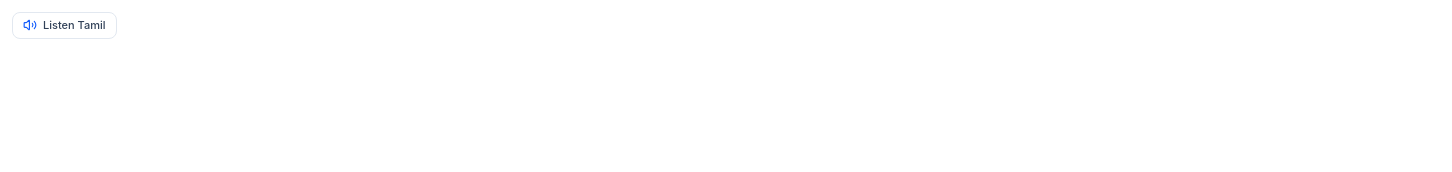
VoiceOutput (Text-to-Speech) workflows › uses matching browser speechSynthesis voice cleanly when server voice is unavailable and supports RTL transcripts
Later steps or results of the test are not shown.
Click the button "Listen Tamil". click: (64, 25)
box: [12,12,116,38]
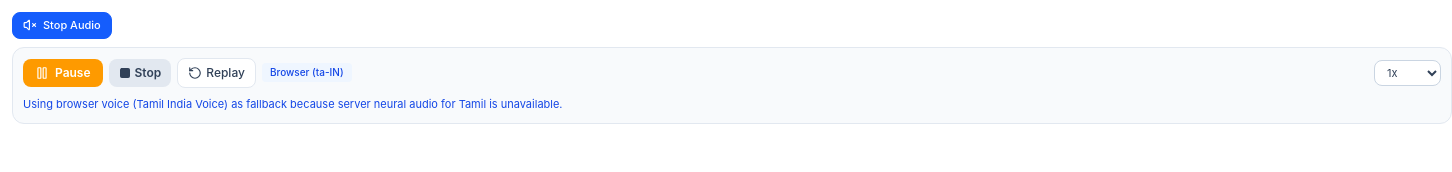
Expected: the text "Using browser voice (Tamil India Voice)" is shown, [23,96,562,110]
